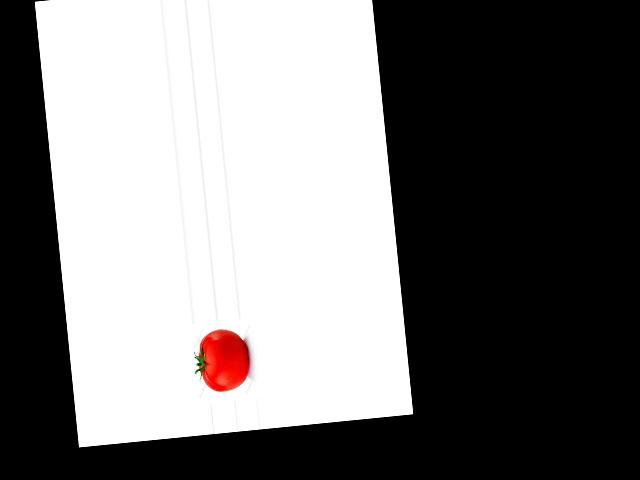tomato: (196, 327, 250, 394)
